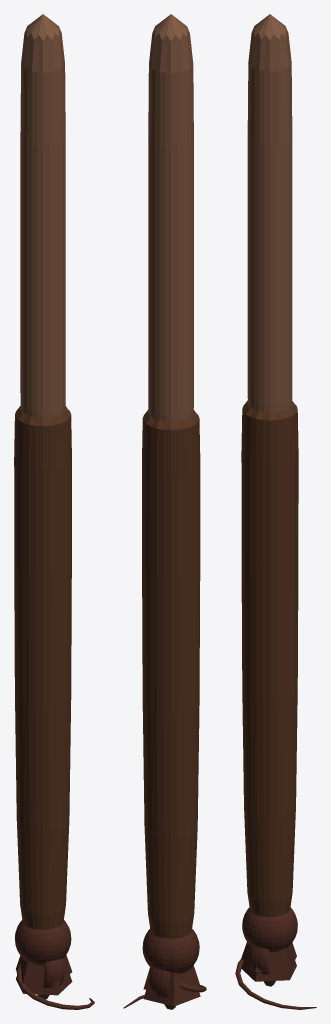
The model's file is Wand 18.glb.
The picture shows the model from 3 angles, left to right: view 1: azimuth 30°, elevation 25°; view 2: azimuth 150°, elevation 25°; view 3: azimuth 330°, elevation 25°; orthographic projection. The views are drawn at different scales.
Visible parts, largest first — view 1: GeneratedWand, Pommel_4, Pommel_10, Pommel_2, Pommel_9; view 2: GeneratedWand, Pommel_4, Pommel_2, Pommel_9, Pommel_10; view 3: GeneratedWand, Pommel_4, Pommel_9, Pommel_2, Pommel_10.
Boxes of the visible parts, x1,y1,x2,y2 form: GeneratedWand: (14, 14, 72, 985); Pommel_4: (15, 920, 71, 965); Pommel_10: (16, 963, 94, 1009); Pommel_2: (42, 958, 64, 987); Pommel_9: (16, 974, 72, 995); GeneratedWand: (142, 14, 200, 996); Pommel_4: (142, 929, 199, 973); Pommel_2: (149, 967, 170, 997); Pommel_9: (143, 990, 200, 1006); Pommel_10: (123, 982, 206, 1008); GeneratedWand: (241, 14, 298, 971); Pommel_4: (242, 907, 297, 952); Pommel_9: (241, 960, 296, 981); Pommel_2: (249, 945, 270, 974); Pommel_10: (235, 959, 316, 1009).
Bounding box in the file's own units: 0.0402 × 0.5188 × 0.0338.
